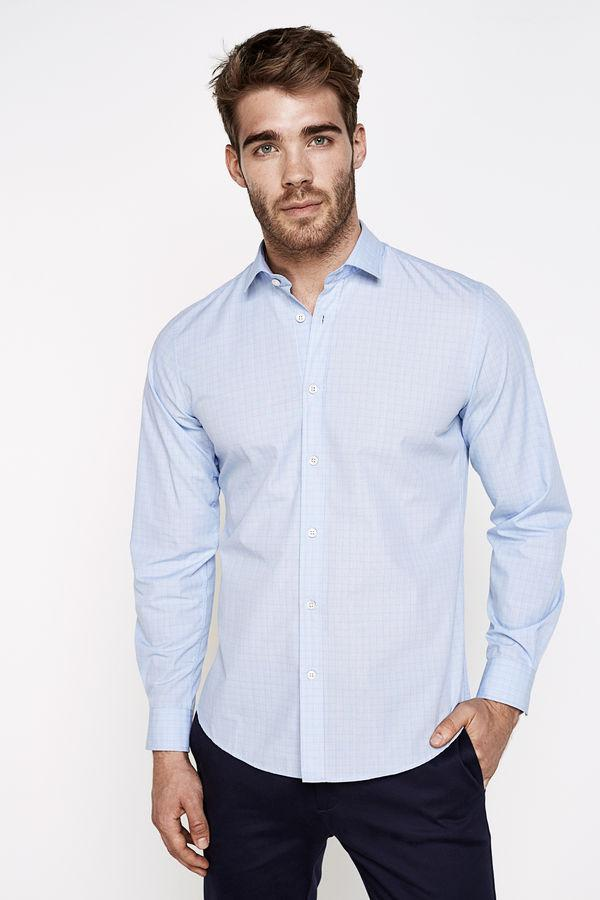teeshirt: (137, 248, 577, 796)
